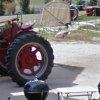Tractor: (2, 15, 60, 83)
